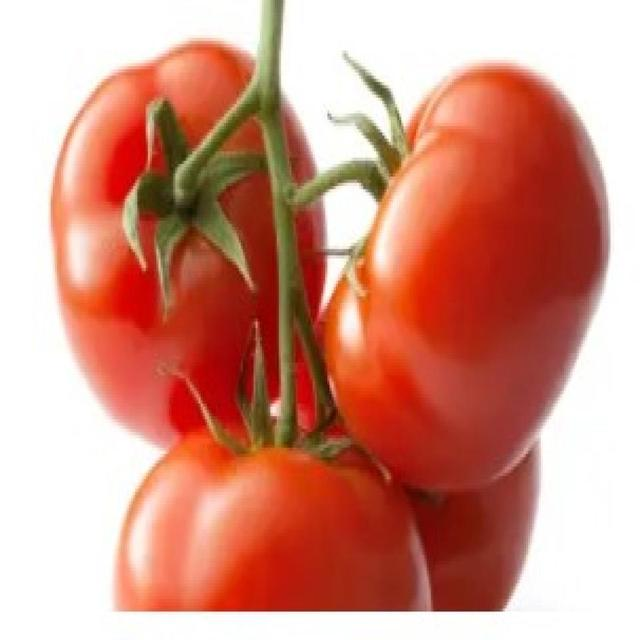Healthy Fruit: (125, 138, 316, 358)
